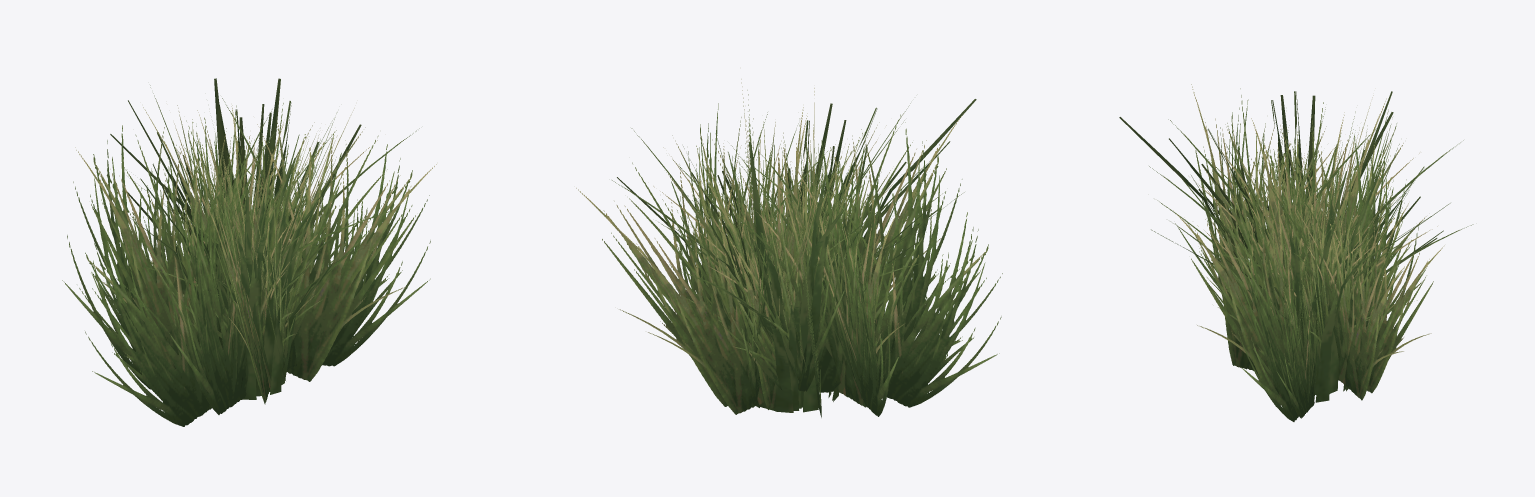
File: grass_real_a.glb
The picture shows the model from 3 angles, left to right: view 1: azimuth 30°, elevation 25°; view 2: azimuth 150°, elevation 25°; view 3: azimuth 270°, elevation 25°; orthographic projection. The views are drawn at different scales.
Visible parts, largest first — view 1: leaves; view 2: leaves; view 3: leaves.
Part boxes in pixels (x1,y1,x2,y2): leaves: (62, 78, 436, 426); leaves: (576, 79, 1002, 417); leaves: (1119, 84, 1473, 421).
Size of the model in its own units: 0.6215 by 0.4873 by 0.5236.
Materials: 1 (1 with a texture image).
